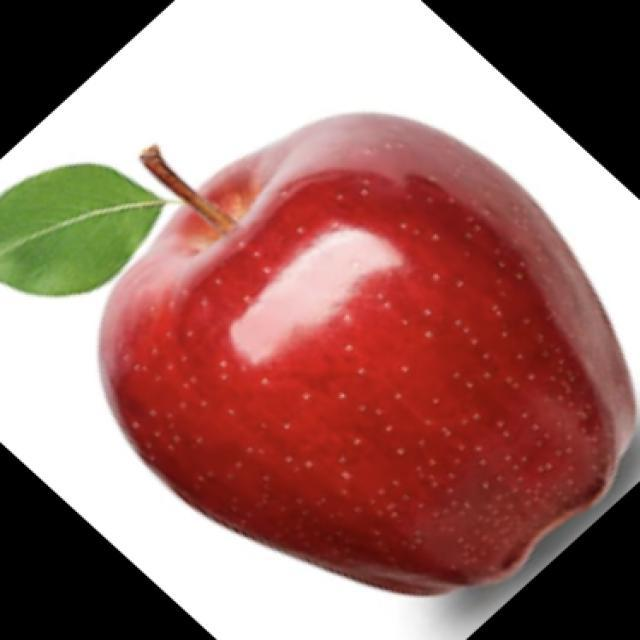Fresh Apple: (98, 104, 640, 596)
